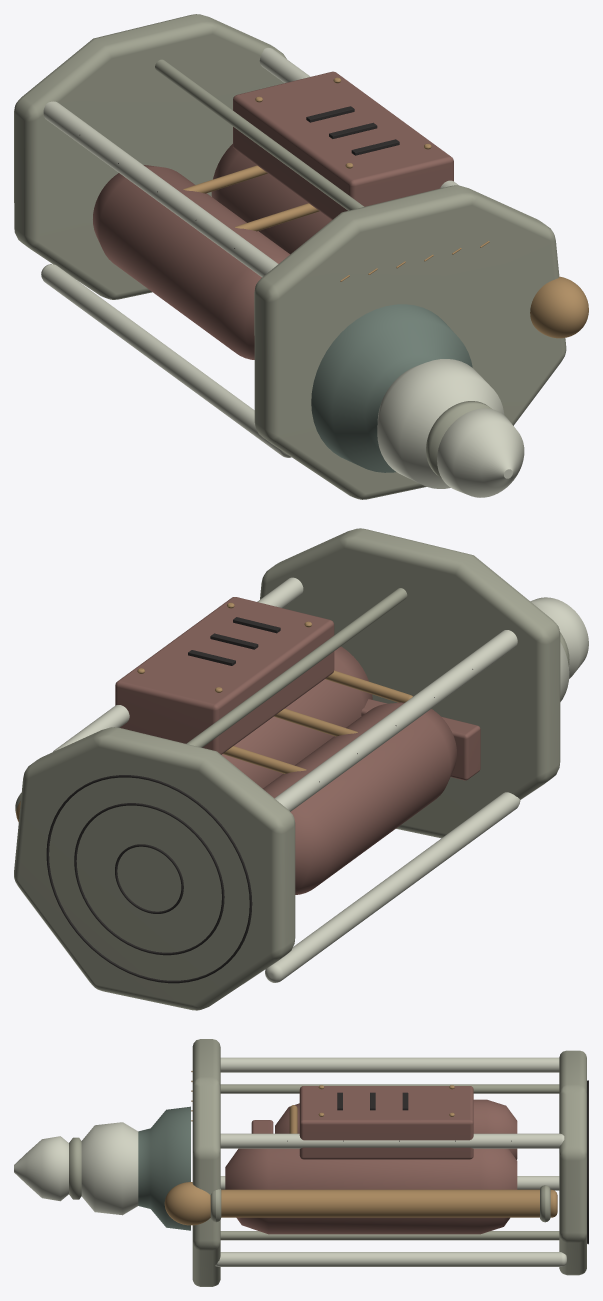
The model's file is turret-optimiser.glb.
3 renders of one model, top to bottom at view 1: azimuth 30°, elevation 25°; view 2: azimuth 150°, elevation 25°; view 3: azimuth 270°, elevation 25°, orthographic. The views are drawn at different scales.
Visible parts, largest first — view 1: Optimiser front shield plate, Optimiser rear shield plate, Maroon protective control cover, Internal flux capacitor -1, Stored energy output mounting bulb, Stored energy output middle bulb, Stored energy terminal bulb, Silver longitudinal cage rail.001, Silver longitudinal cage rail, Internal flux capacitor 1, Chamber central service brace.001, Manual pulse control rounded end (+4 smaller); view 2: Optimiser rear shield plate, Optimiser front shield plate, Maroon protective control cover, Internal flux capacitor -1, Internal flux capacitor 1, Silver longitudinal cage rail, Silver longitudinal cage rail.001, Chamber central service brace.001, Rear plate concentric engraving, Stored energy terminal bulb, Capacitor common connecting yoke, Silver longitudinal cage rail.003 (+5 smaller); view 3: Internal flux capacitor 1, Maroon protective control cover, Manual bronze pulse rod, Optimiser front shield plate, Optimiser rear shield plate, Silver longitudinal cage rail.001, Silver longitudinal cage rail.002, Stored energy output middle bulb, Stored energy output mounting bulb, Silver longitudinal cage rail.003, Chamber central service brace, Stored energy terminal bulb (+7 smaller).
Part boxes in pixels (box(x1,y1,x2,y2)): Optimiser front shield plate: box(254, 185, 566, 499); Optimiser rear shield plate: box(14, 14, 286, 299); Maroon protective control cover: box(233, 71, 453, 219); Internal flux capacitor -1: box(93, 165, 289, 359); Stored energy output mounting bulb: box(311, 304, 472, 472); Stored energy output middle bulb: box(377, 359, 504, 488); Stored energy terminal bulb: box(437, 408, 524, 497); Silver longitudinal cage rail.001: box(43, 101, 278, 277); Silver longitudinal cage rail: box(41, 264, 291, 457); Internal flux capacitor 1: box(211, 144, 331, 254); Chamber central service brace.001: box(155, 59, 364, 210); Manual pulse control rounded end: box(530, 276, 588, 338); Optimiser rear shield plate: box(14, 727, 295, 1010); Optimiser front shield plate: box(260, 528, 560, 838); Maroon protective control cover: box(115, 597, 334, 754); Internal flux capacitor -1: box(263, 702, 456, 894); Internal flux capacitor 1: box(221, 646, 372, 788); Silver longitudinal cage rail: box(265, 792, 520, 982); Silver longitudinal cage rail.001: box(274, 630, 517, 811); Chamber central service brace.001: box(186, 588, 407, 747); Rear plate concentric engraving: box(46, 775, 252, 983); Stored energy terminal bulb: box(530, 597, 588, 678); Capacitor common connecting yoke: box(361, 699, 480, 780); Silver longitudinal cage rail.003: box(53, 577, 303, 751); Internal flux capacitor 1: box(225, 1148, 517, 1234); Maroon protective control cover: box(299, 1086, 473, 1159); Manual bronze pulse rod: box(221, 1189, 557, 1217); Optimiser front shield plate: box(192, 1039, 220, 1286); Optimiser rear shield plate: box(559, 1050, 586, 1275); Silver longitudinal cage rail.001: box(220, 1057, 559, 1072); Silver longitudinal cage rail.002: box(215, 1252, 566, 1266); Stored energy output middle bulb: box(81, 1122, 138, 1215); Stored energy output mounting bulb: box(138, 1106, 190, 1230); Silver longitudinal cage rail.003: box(220, 1133, 564, 1148); Chamber central service brace: box(220, 1231, 559, 1240); Stored energy terminal bulb: box(14, 1136, 68, 1201).
Bounding box in the file's own units: 0.8388 × 0.7335 × 1.85.
